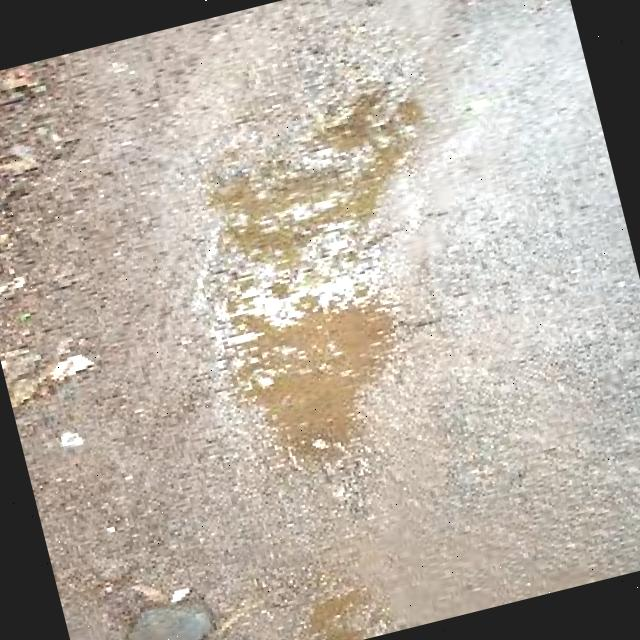stagnation: (168, 48, 460, 292), (204, 254, 456, 498)
